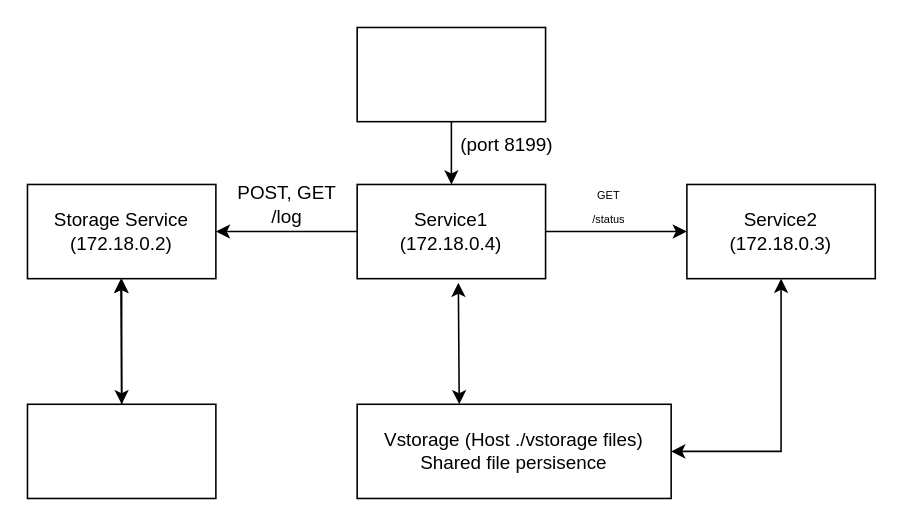
The diagram is 903 pixels wide and 526 high, and some of its shapes have lost their labels. Here are the shapes that lost their labels. From the top down, the centre of each, then its label:
At (451,74): "Docker Host".
At (121,450): "storage_data (named volume)".
